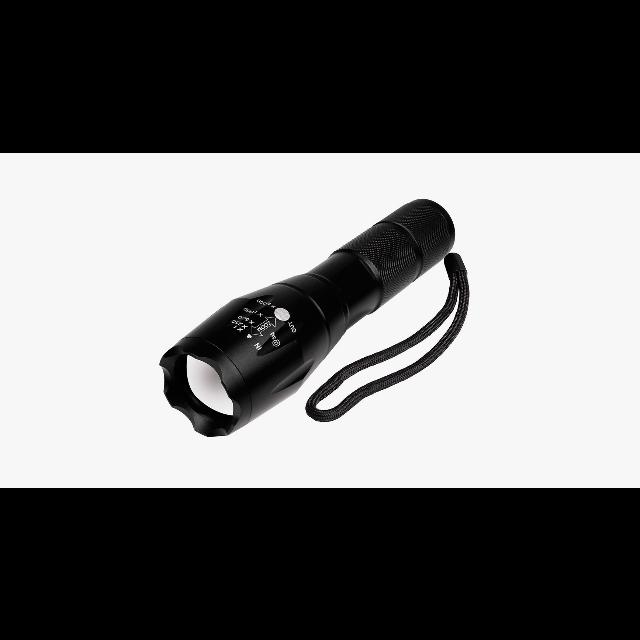Flashlight: (154, 194, 476, 440)
